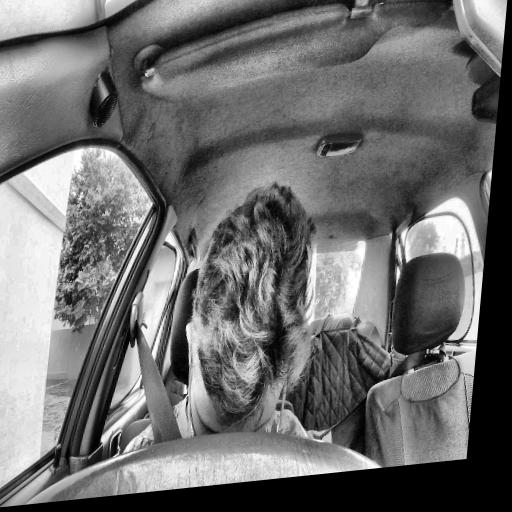drowsy: (176, 176, 327, 453)
